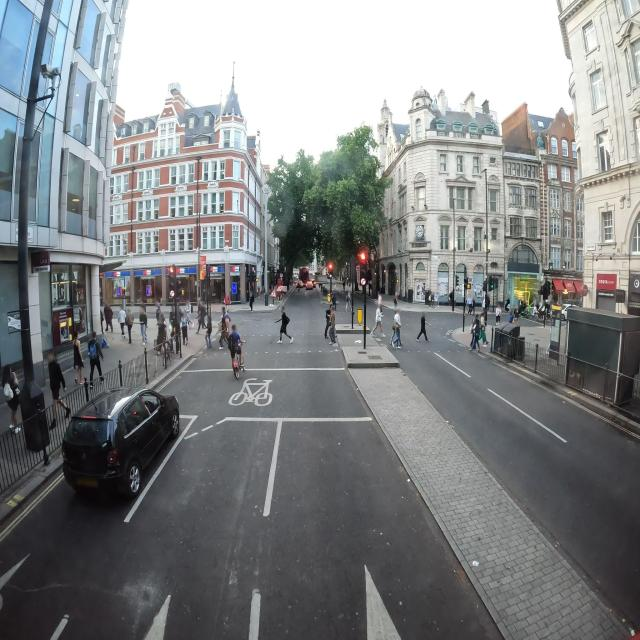car: (61, 385, 181, 503)
